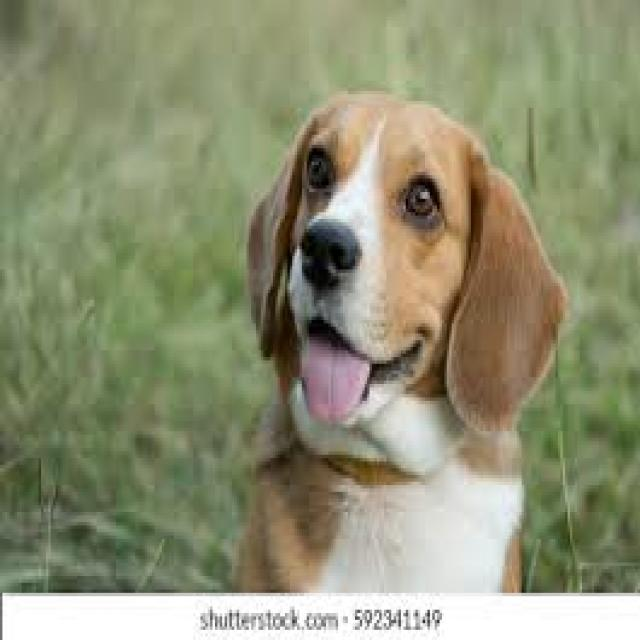Dog: (224, 89, 569, 594)
